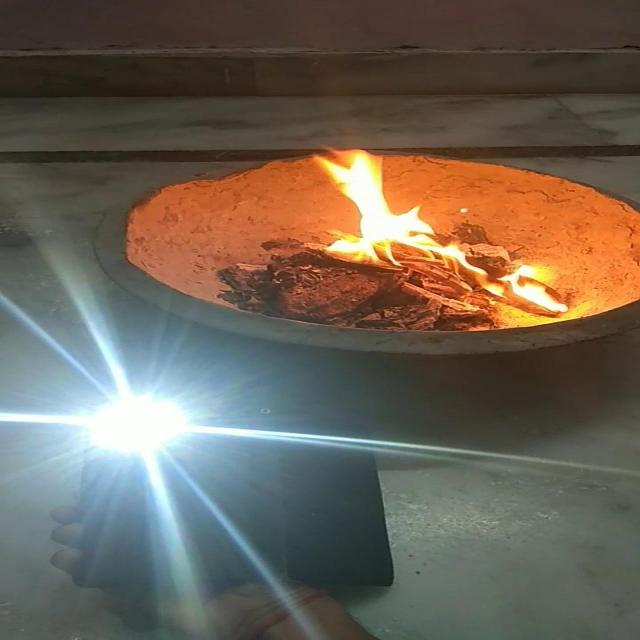fire: (304, 155, 572, 313)
